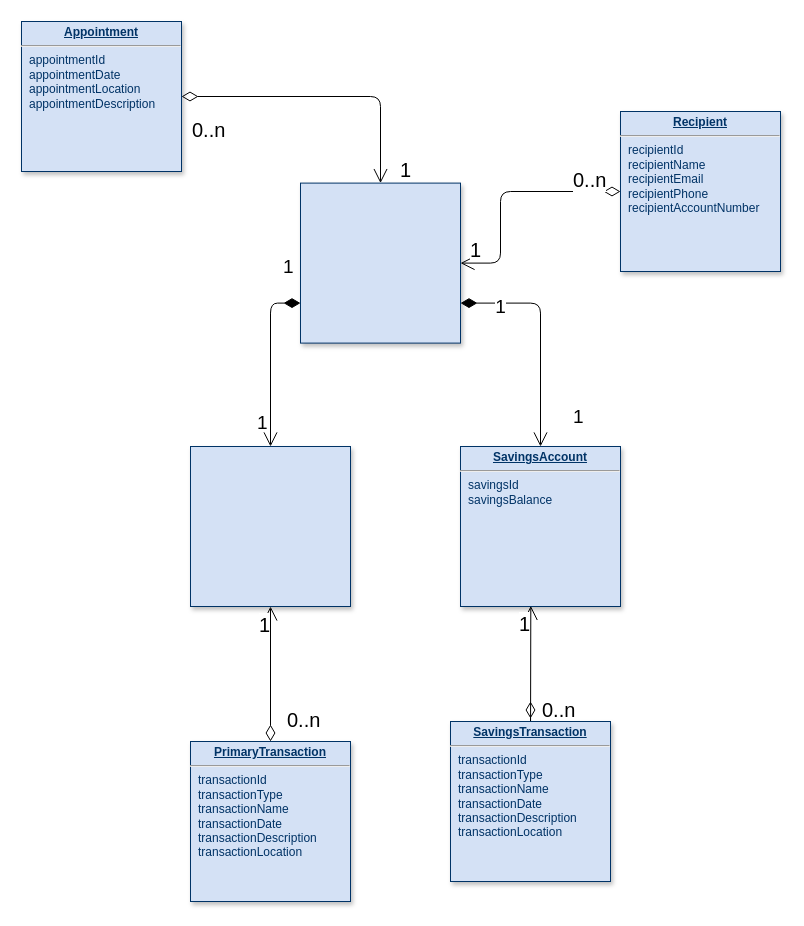
Image size: 804x926. Some labels were removed from this diagram. The shapes that lost their labels are listed below. From the top down, each one's centre as x and y in pixels, then its label:
At [381,264]: "User userId firstName LastName password email phone".
At [271,528]: "PrimaryAccount primaryId primaryBalance".
